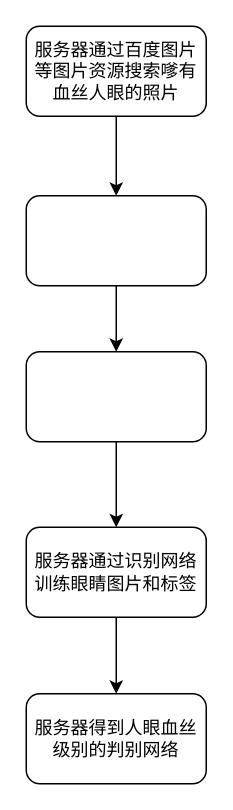
Image size: 233x810. Some labels were removed from this diagram. The centre of each missing label's shape, as x and y in pixels:
"人工对资源打上严重程度的标签" goes at (x=115, y=240).
"服务器通过人脸特征点技术切割出人眼位置" goes at (x=115, y=396).
